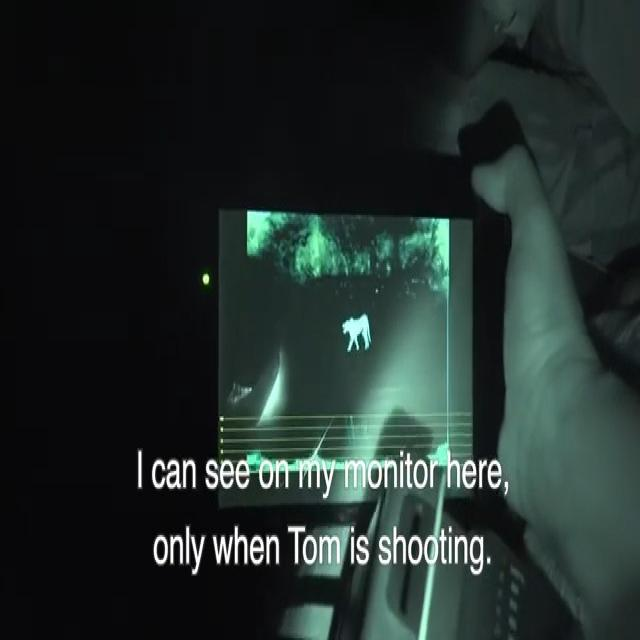animal: (332, 282, 395, 388)
device: (148, 115, 522, 541)
